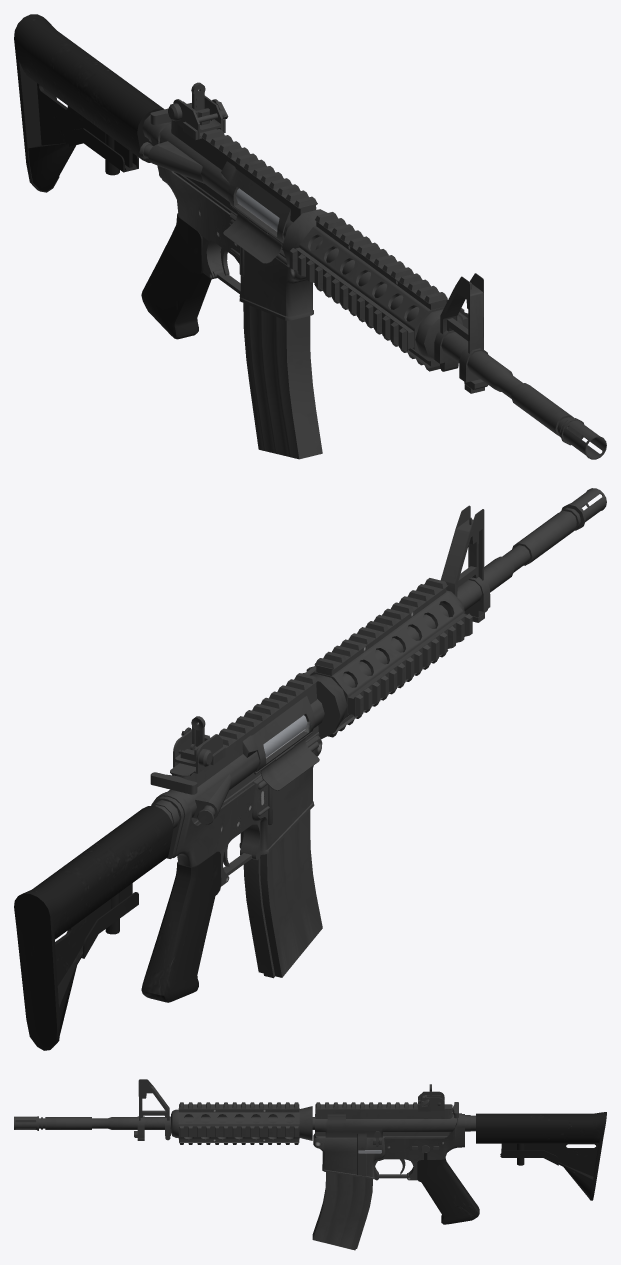
The model's file is m4a1.medium.glb.
3 views of the same model, one above another, from view 1: azimuth 30°, elevation 25°; view 2: azimuth 150°, elevation 25°; view 3: azimuth 270°, elevation 25° (orthographic). The views are drawn at different scales.
Parts seen in each view (by area): view 1: Magazine; view 2: Magazine; view 3: Magazine.
Part boxes in pixels (x1,y1,x2,y2): Magazine: [14, 14, 606, 459]; Magazine: [14, 488, 606, 1050]; Magazine: [14, 1079, 606, 1250].
Size of the model in its own units: 0.0637 by 0.2667 by 0.86.
1 material, 1 textured.
